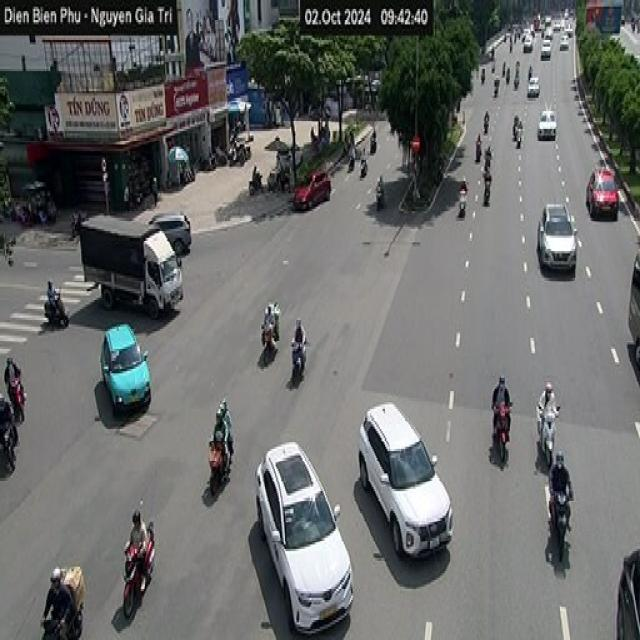car: (248, 431, 358, 640), (358, 400, 452, 560), (99, 322, 151, 413), (536, 202, 578, 271), (585, 166, 619, 218), (291, 169, 331, 211), (536, 109, 556, 138), (526, 76, 539, 96)
motorcycle: (121, 520, 155, 618), (545, 484, 571, 560), (535, 402, 560, 467), (208, 429, 232, 495), (491, 400, 511, 462), (44, 289, 68, 327), (290, 338, 308, 384)
person: (41, 566, 75, 638), (124, 509, 148, 589), (548, 449, 572, 527), (536, 380, 559, 440), (491, 373, 511, 440), (458, 176, 468, 213), (375, 173, 384, 211)
truck: (76, 209, 184, 318)
